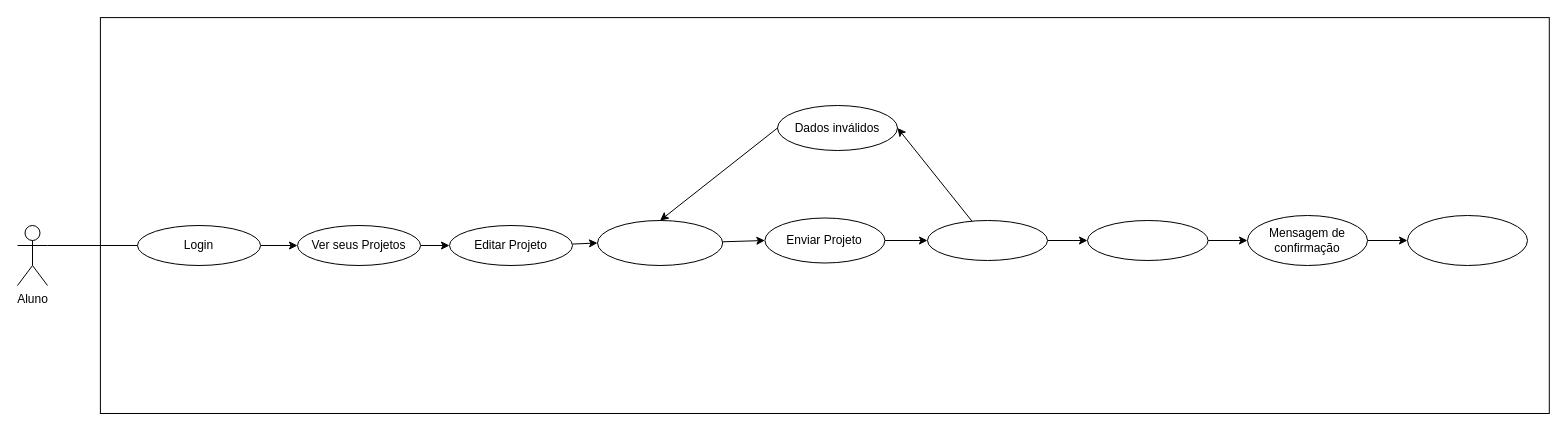
Image size: 1567x431. Some labels were removed from this diagram. Here are the shapes that lost their labels. From the top down, the box of each, then its label:
(596, 220, 723, 266): Reeditar dados
(926, 220, 1048, 260): Validar dados
(1086, 220, 1208, 260): Gravar no banco
(1406, 214, 1528, 266): Volta // Tela inicial
